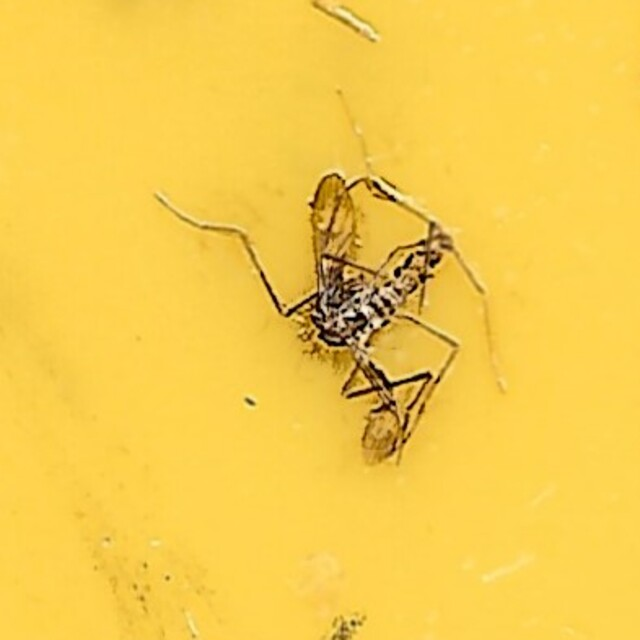Nematocera: (163, 170, 477, 470)
